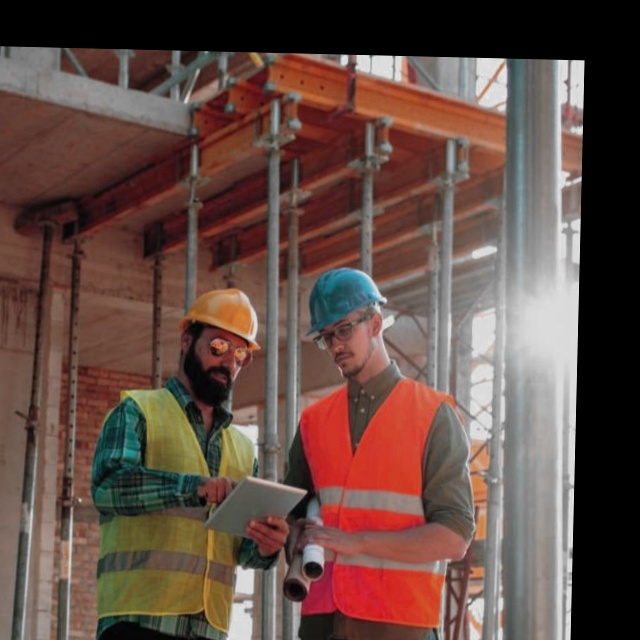Con_Casco: (305, 265, 388, 375)
Con_Chaleco: (286, 378, 466, 626), (91, 392, 256, 622)
